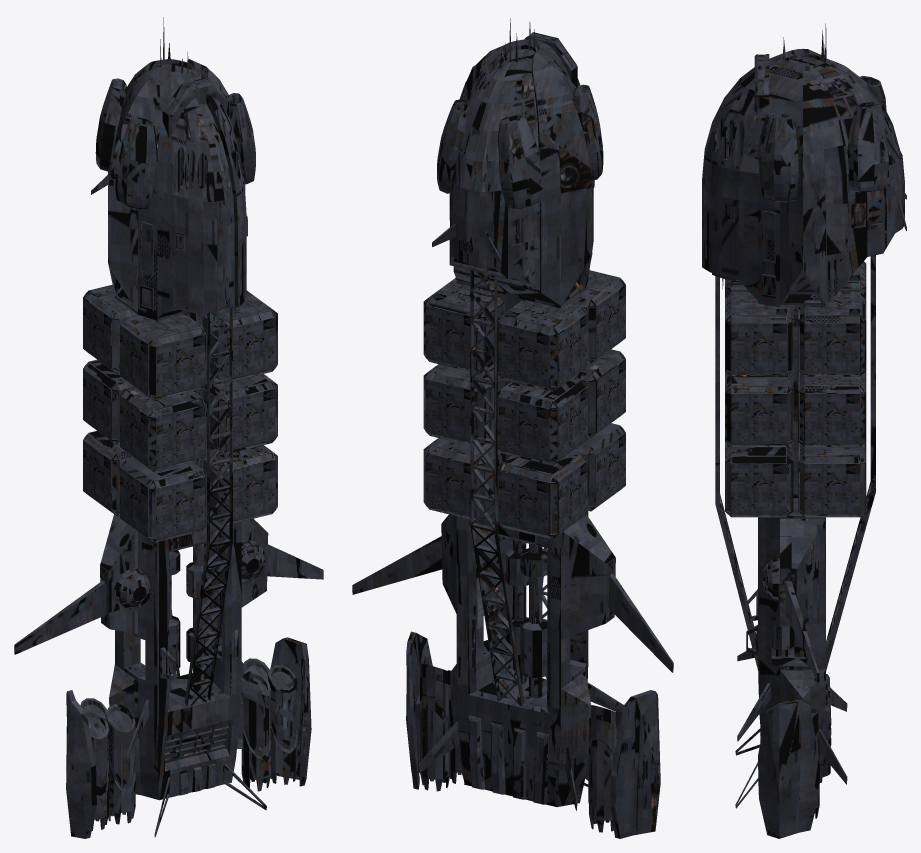
File: eris.obj
The picture shows the model from 3 angles, left to right: view 1: azimuth 30°, elevation 25°; view 2: azimuth 150°, elevation 25°; view 3: azimuth 270°, elevation 25°; orthographic projection. The views are drawn at different scales.
Parts seen in each view (by area): view 1: Sphere01; view 2: Sphere01; view 3: Sphere01.
Part boxes in pixels (<box>): Sphere01: <box>14,17,323,838</box>; Sphere01: <box>352,18,673,838</box>; Sphere01: <box>702,23,906,838</box>.
Size of the model in its own units: 153 by 369 by 89.11.
